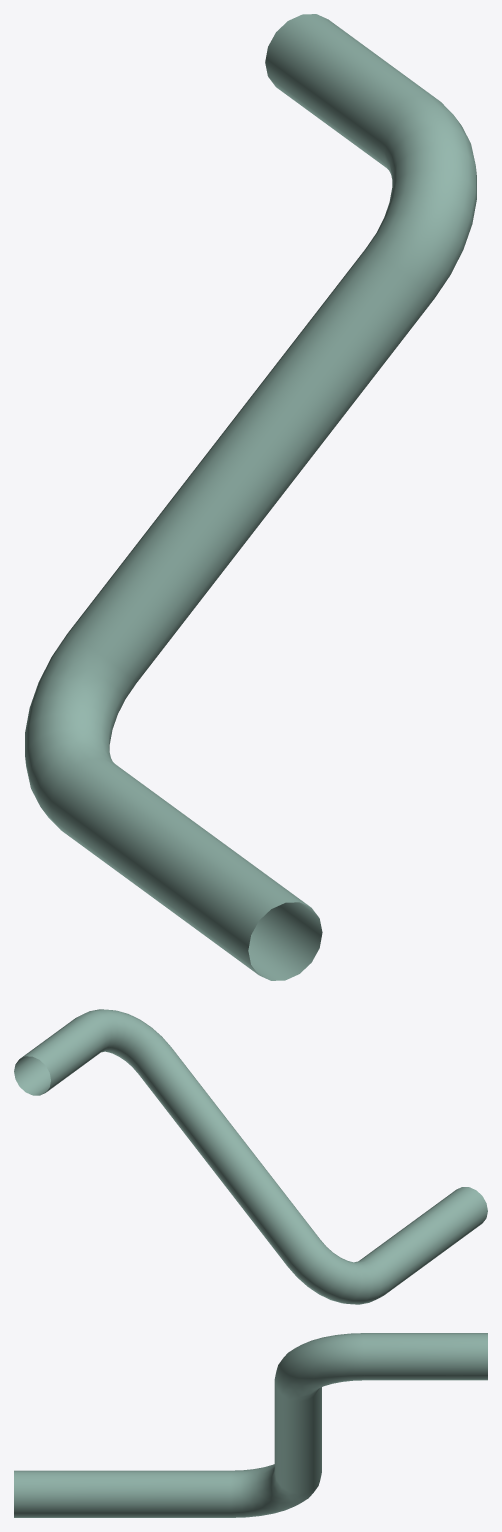
Rendered from PipeLarge_BentSpecial_02.fbx.
3 renders of one model, top to bottom at view 1: azimuth 30°, elevation 25°; view 2: azimuth 150°, elevation 25°; view 3: azimuth 270°, elevation 25°, orthographic. The views are drawn at different scales.
Visible parts, largest first — view 1: PipeLarge_BentSpecial_02.001; view 2: PipeLarge_BentSpecial_02.001; view 3: PipeLarge_BentSpecial_02.001.
Part boxes in pixels (bbox=[...]): PipeLarge_BentSpecial_02.001: bbox=[25, 14, 476, 980]; PipeLarge_BentSpecial_02.001: bbox=[14, 1009, 487, 1304]; PipeLarge_BentSpecial_02.001: bbox=[14, 1333, 487, 1517].
Size of the model in its own units: 1.4 by 1.4 by 2.
